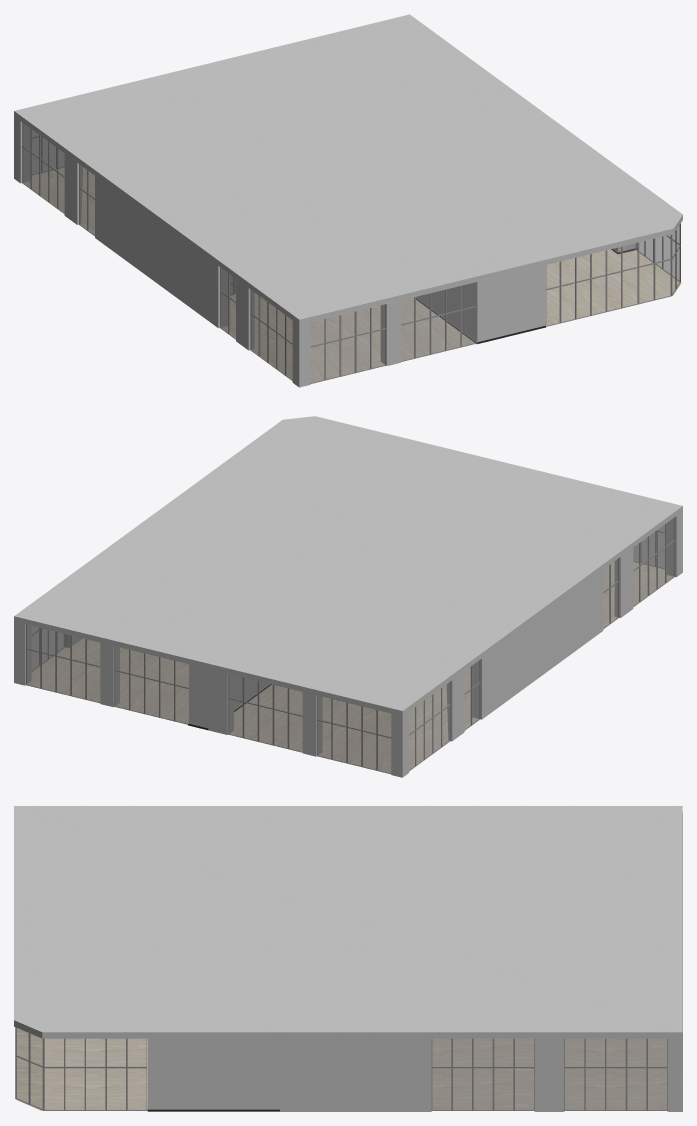
Rendered from Office.FBX.
3 views of the same model, one above another, from view 1: azimuth 30°, elevation 25°; view 2: azimuth 150°, elevation 25°; view 3: azimuth 270°, elevation 25° (orthographic). The views are drawn at different scales.
Visible parts, largest first — view 1: Roof, Glass, Wallls, Floor, Chrome; view 2: Roof, Glass, Wallls, Floor, Chrome; view 3: Roof, Wallls, Glass, Floor, Chrome.
Part boxes in pixels (x1,y1,x2,y2): Roof: (14, 14, 682, 324); Glass: (23, 123, 679, 382); Wallls: (14, 116, 637, 387); Floor: (24, 167, 681, 382); Chrome: (22, 122, 680, 383); Roof: (14, 416, 682, 716); Glass: (26, 518, 674, 773); Wallls: (14, 511, 682, 777); Floor: (27, 562, 672, 772); Chrome: (26, 517, 674, 774); Roof: (14, 806, 682, 1038); Wallls: (147, 812, 682, 1111); Glass: (17, 1028, 666, 1109); Floor: (17, 1028, 666, 1110); Chrome: (15, 1027, 667, 1110).
Bounding box in the file's own units: 49.26 × 8.18 × 61.55.
